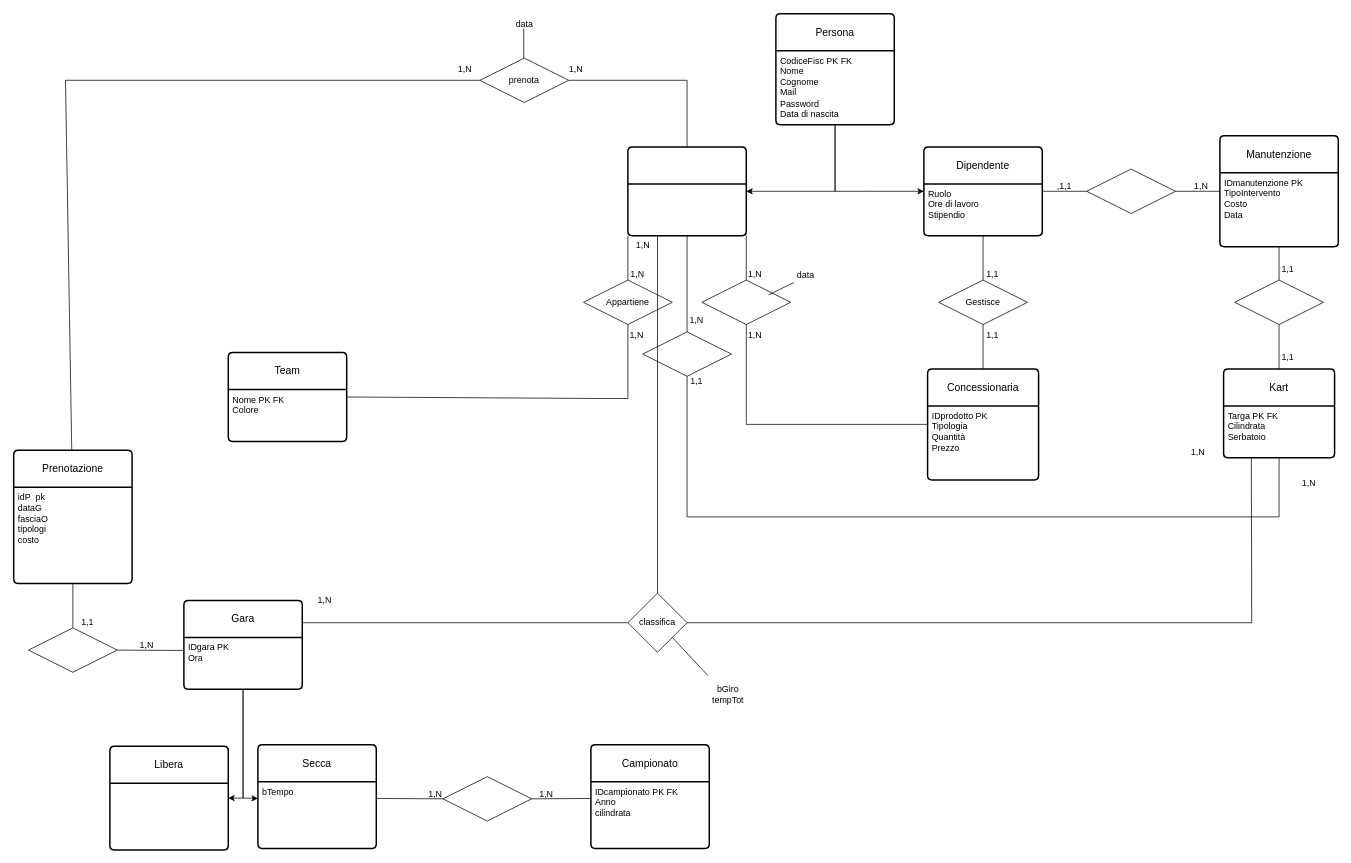
Some shapes in this 1351 by 863 pixel diagram are drawn without their labels. The centre of each missing label's shape, as x and y in pixels:
Acquista: the point at 746,301
Creano: the point at 72,649
Effettua: the point at 1130,190
Eseguita: the point at 1278,301
Partecipa: the point at 487,798
Possiede: the point at 686,353
Socio: the point at 687,191
